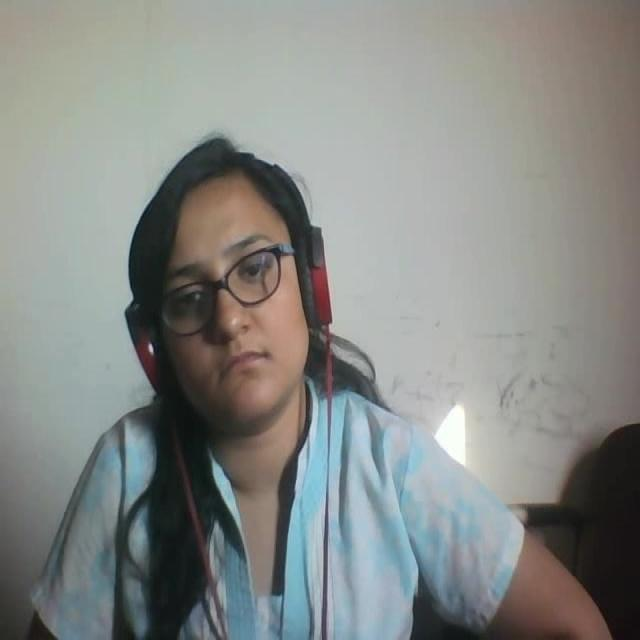Engaged: (90, 134, 371, 441)
